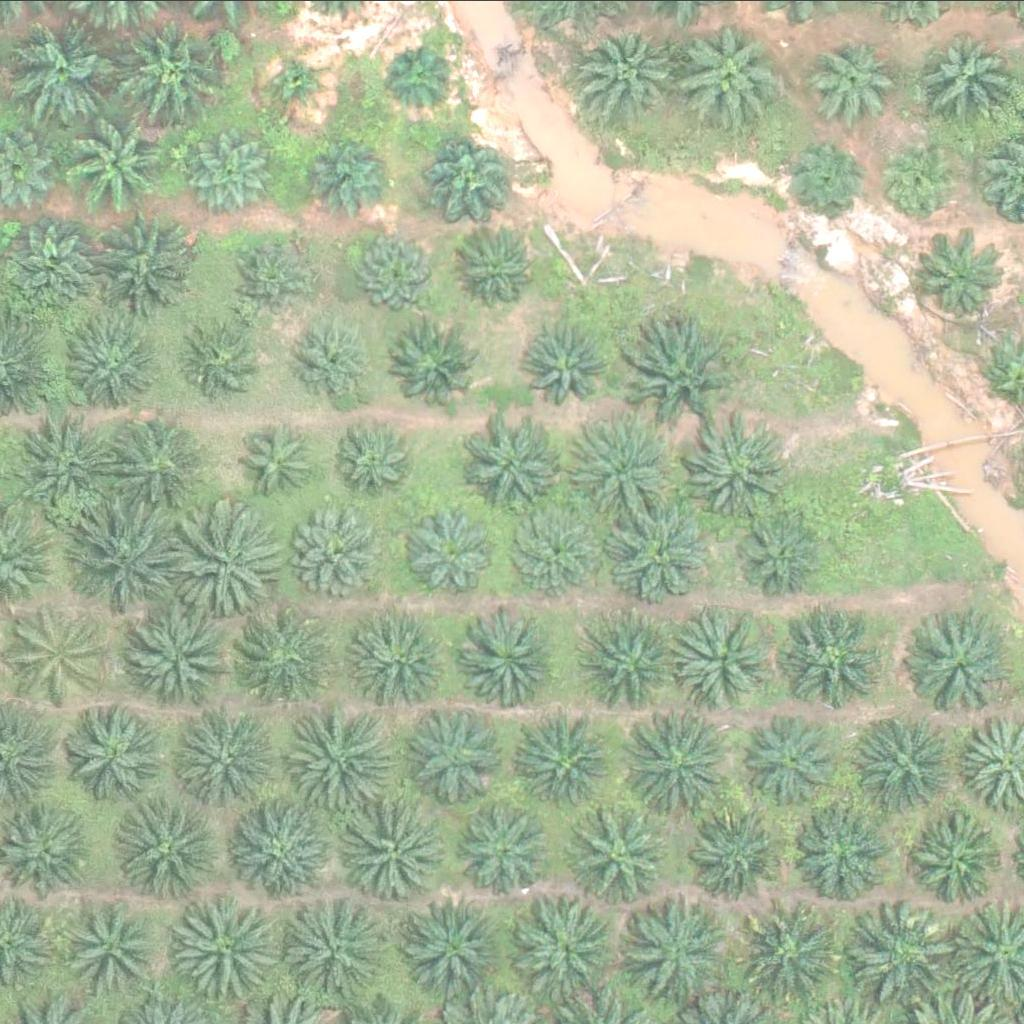Kelapa_Sawit: (173, 892, 286, 1005), (280, 700, 393, 813), (625, 319, 738, 432), (842, 899, 955, 1012), (170, 695, 284, 807), (169, 502, 283, 614), (77, 502, 191, 614), (277, 891, 390, 1003), (119, 592, 232, 704), (5, 11, 118, 123), (107, 12, 220, 124), (562, 417, 675, 529), (620, 705, 733, 817), (396, 897, 497, 997), (62, 896, 163, 996), (119, 802, 220, 902), (227, 796, 328, 896), (352, 797, 453, 897), (404, 704, 505, 804), (63, 697, 164, 797), (9, 606, 110, 706), (239, 611, 340, 711), (354, 607, 455, 707), (462, 606, 563, 706), (17, 409, 118, 509), (109, 411, 210, 511), (60, 313, 161, 413), (64, 112, 165, 212), (914, 617, 1015, 717), (908, 812, 1009, 912), (803, 33, 904, 133), (686, 423, 787, 523), (603, 498, 704, 598), (672, 614, 773, 714), (584, 614, 685, 714), (516, 710, 617, 810), (401, 498, 501, 598), (465, 412, 565, 512), (87, 211, 187, 311), (923, 27, 1023, 127), (865, 712, 965, 812), (577, 17, 677, 117), (683, 26, 783, 126), (782, 608, 882, 708), (741, 712, 841, 812), (786, 800, 886, 900), (566, 808, 666, 908), (682, 803, 782, 903), (515, 897, 615, 997), (632, 897, 732, 997), (745, 905, 845, 1005), (332, 419, 421, 507), (508, 505, 597, 593), (186, 313, 274, 401), (192, 126, 280, 214), (431, 129, 519, 217), (880, 135, 968, 223), (458, 225, 546, 312), (351, 230, 439, 317), (230, 230, 318, 317), (239, 423, 327, 510), (290, 320, 378, 407), (390, 324, 478, 411), (461, 807, 549, 894), (302, 504, 390, 591), (14, 218, 102, 305), (298, 132, 386, 219), (922, 232, 1010, 319), (781, 134, 869, 221), (527, 319, 615, 406), (734, 510, 822, 597), (382, 38, 457, 113), (271, 49, 334, 112)
